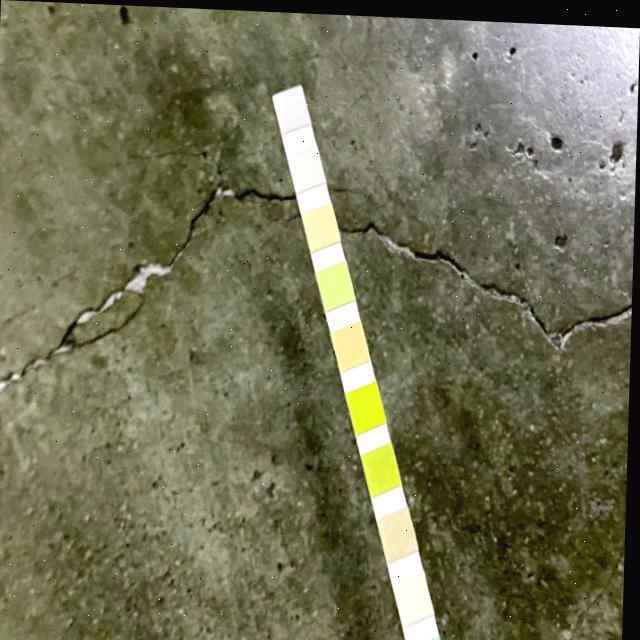Bilirubin: (402, 576, 428, 613)
Blood: (355, 387, 381, 421)
Ketone: (387, 514, 413, 549)
Leukocytes: (277, 93, 304, 120)
Nitrite: (293, 153, 319, 180)
Protein: (322, 267, 350, 297)
SpGravity: (369, 449, 396, 482)
Urobilinogen: (308, 209, 334, 238)
pH: (339, 327, 365, 360)
